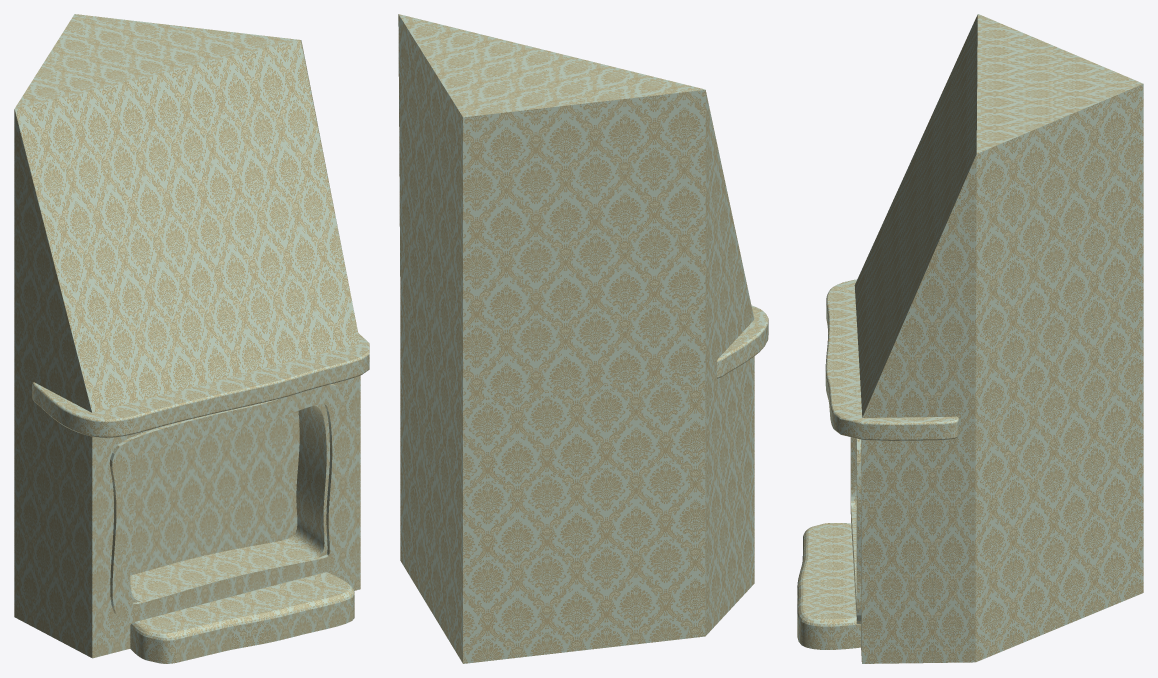
The model's file is kamin_06_obj.obj.
3 views of the same model, side by side, from view 1: azimuth 30°, elevation 25°; view 2: azimuth 150°, elevation 25°; view 3: azimuth 270°, elevation 25° (orthographic). The views are drawn at different scales.
Parts seen in each view (by area): view 1: Fireplace_06; view 2: Fireplace_06; view 3: Fireplace_06.
Boxes of the visible parts, left/top/right/bottom form: Fireplace_06: left=14, top=14, right=369, bottom=663; Fireplace_06: left=398, top=14, right=768, bottom=663; Fireplace_06: left=797, top=14, right=1143, bottom=663.
Bounding box in the file's own units: 1721 × 2778 × 1714.
Materials: 1 (1 with a texture image).
